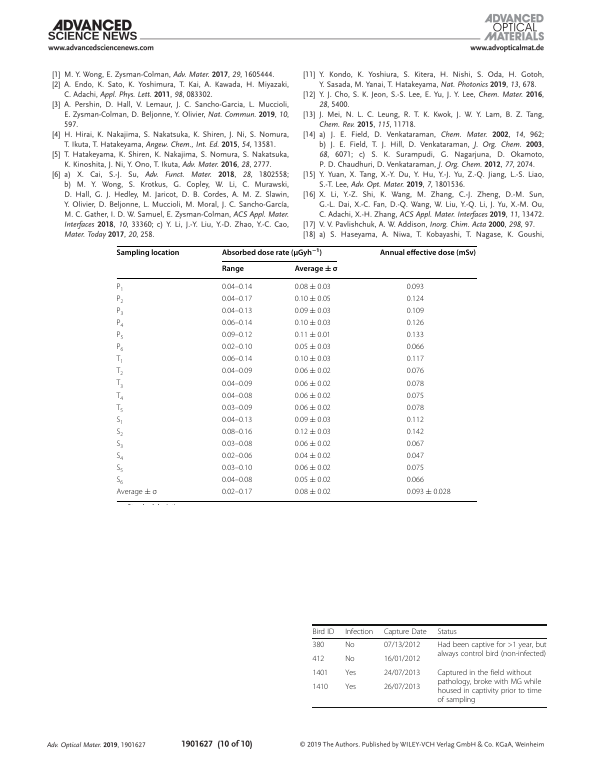borderless: (115, 244, 477, 501), (312, 623, 547, 707)
cell: (436, 668, 542, 705), (436, 640, 547, 659), (221, 247, 323, 258), (379, 248, 477, 258), (116, 248, 180, 258), (294, 264, 338, 274), (406, 488, 452, 497), (383, 627, 427, 636), (115, 488, 158, 497), (383, 640, 421, 650), (383, 654, 421, 664), (383, 668, 421, 678), (383, 682, 421, 692), (294, 282, 332, 292), (294, 294, 332, 304), (294, 403, 332, 413), (294, 415, 332, 425), (294, 307, 332, 316), (294, 319, 332, 328), (294, 331, 332, 340), (294, 343, 332, 352), (294, 355, 332, 364), (294, 367, 332, 376), (294, 379, 332, 388), (294, 391, 332, 400), (294, 428, 332, 437), (294, 440, 332, 449), (294, 452, 332, 461), (294, 464, 332, 473), (294, 476, 332, 485), (294, 488, 332, 497), (221, 282, 253, 292), (221, 294, 253, 304), (221, 403, 253, 413), (221, 415, 253, 425), (221, 307, 253, 316), (221, 319, 253, 328), (221, 331, 253, 340), (221, 343, 253, 352), (221, 355, 253, 364), (221, 367, 253, 376), (221, 379, 253, 388), (221, 391, 253, 400), (221, 428, 253, 437), (221, 440, 253, 449), (221, 452, 253, 461), (221, 464, 253, 473), (221, 476, 253, 485), (221, 488, 253, 497), (344, 627, 374, 636), (221, 264, 245, 274), (312, 627, 335, 636), (436, 627, 458, 636), (406, 282, 425, 292), (406, 294, 425, 304), (406, 403, 425, 413), (406, 415, 425, 425), (406, 307, 425, 316), (406, 319, 425, 328), (406, 331, 425, 340), (406, 343, 425, 352), (406, 355, 425, 364), (406, 367, 425, 376), (406, 379, 425, 388), (406, 391, 425, 400), (406, 428, 425, 437), (406, 440, 425, 449), (406, 452, 425, 461), (406, 464, 425, 473), (406, 476, 425, 485), (312, 668, 329, 678), (312, 682, 329, 692), (312, 640, 325, 650), (312, 654, 325, 664), (344, 668, 357, 678), (344, 682, 357, 692), (344, 640, 355, 650), (344, 654, 355, 664), (115, 355, 124, 366), (115, 367, 124, 378), (115, 379, 124, 390), (115, 391, 124, 402), (115, 403, 124, 414), (115, 415, 124, 426), (115, 464, 124, 475), (115, 476, 124, 487), (115, 428, 124, 438), (115, 440, 124, 450), (115, 452, 124, 462), (116, 282, 124, 293), (116, 294, 124, 305), (116, 343, 124, 354), (116, 307, 124, 317), (116, 319, 124, 329), (116, 331, 124, 341)
